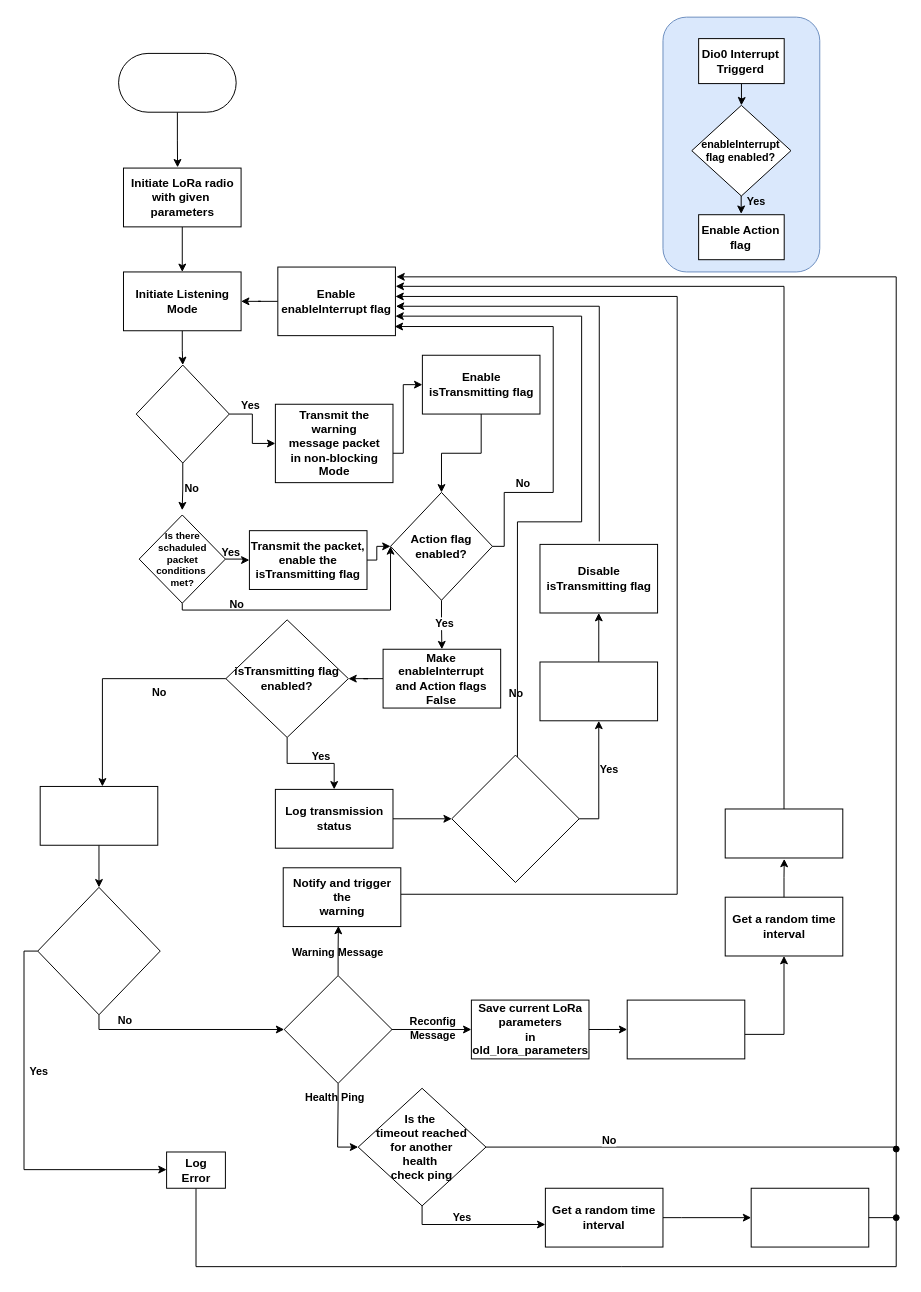
This 921x1292 diagram has some shape labels left out. Each missing label, with the centre of its shape:
"Earth-quake Detected" belongs at point 182,413.
"Is there are no errors in reception?" belongs at point 98,950.
"retxSch flag Enabled?" belongs at point 515,818.
"retxSch flag to false Revert LoRa parameters to selected values" belongs at point 598,691.
"Save the payload And Status code" belongs at point 98,815.
"Schadule a Health-check ping Response" belongs at point 809,1217.
"Schedule a Retransmite packet, Enable retxSch" belongs at point 783,833.
"Start" belongs at point 177,82.
"Update the LoRa parameters" belongs at point 685,1029.
"What is the packet type" belongs at point 337,1029.
